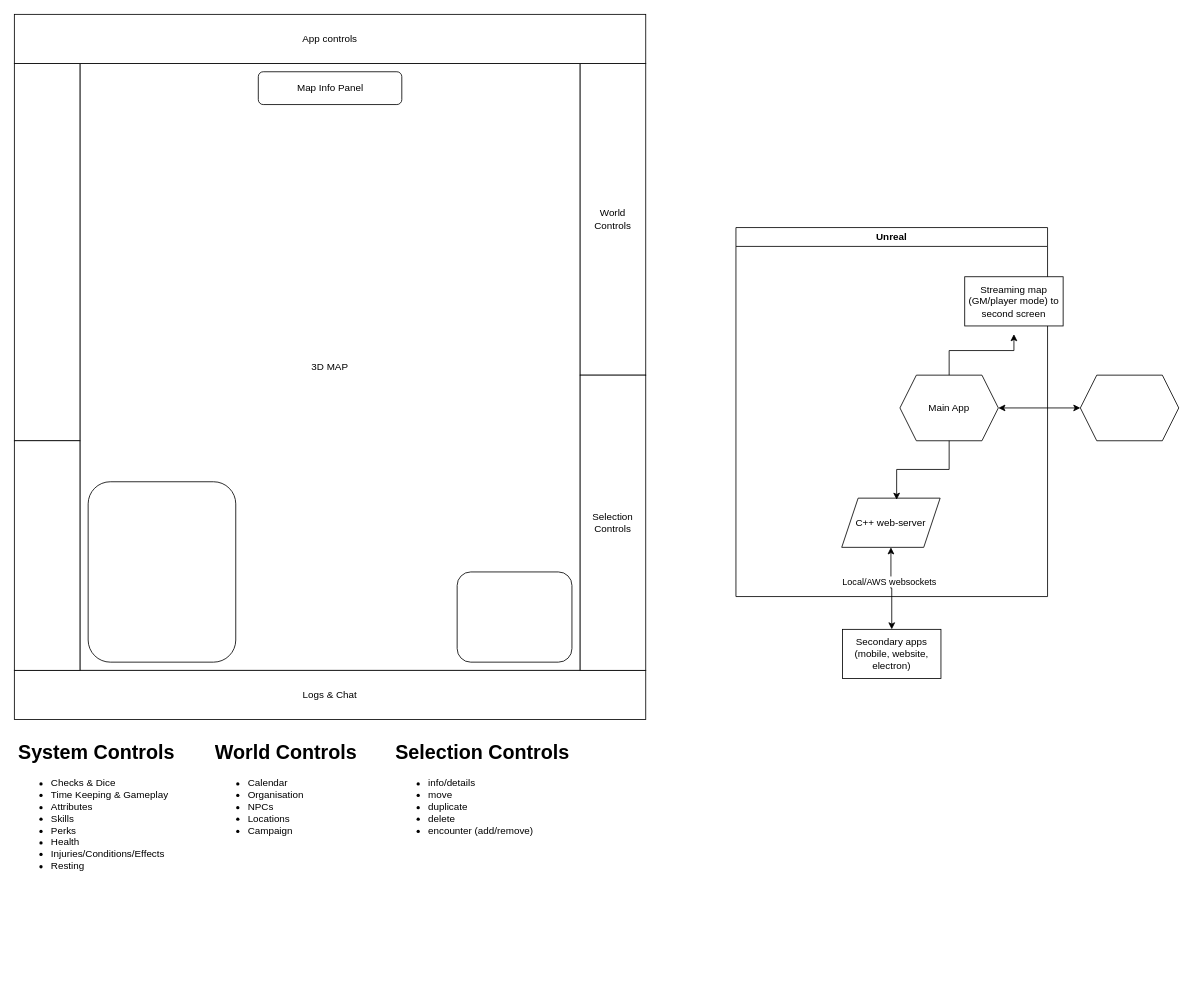
Image size: 1193x996. Some labels were removed from this diagram. The shapes that lost their labels are listed below. From the top down, each one's centre as x and y in pixels, then its label:
the point at 47,252: Game system controls
the point at 1129,407: Satellite Main App
the point at 47,555: Encounter controls
the point at 161,571: Encounter details
the point at 514,616: Selection (short) info panel
